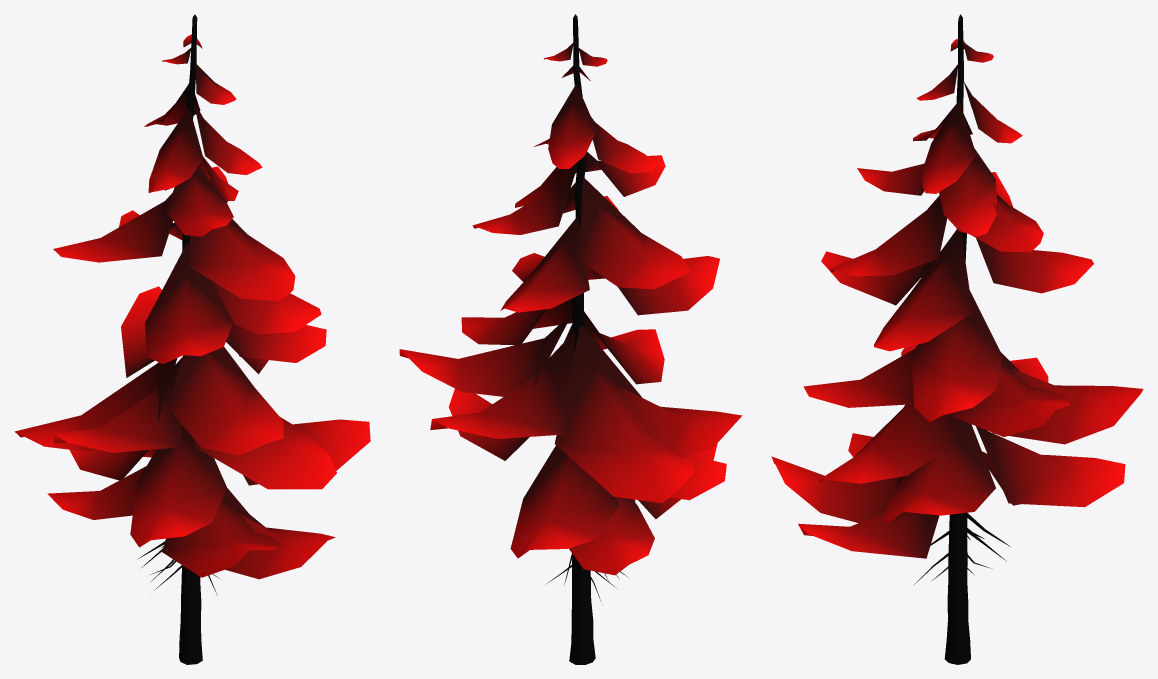
File: pineTree.glb
3 views of the same model, side by side, from view 1: azimuth 30°, elevation 25°; view 2: azimuth 150°, elevation 25°; view 3: azimuth 270°, elevation 25° (orthographic).
Parts seen in each view (by area): view 1: PineTree; view 2: PineTree; view 3: PineTree.
Part boxes in pixels (x1,y1,x2,y2): PineTree: [14, 14, 370, 664]; PineTree: [399, 14, 742, 664]; PineTree: [771, 14, 1143, 664].
Bounding box in the file's own units: 1.36 × 2.79 × 1.45.
Materials: 1 (1 with a texture image).
